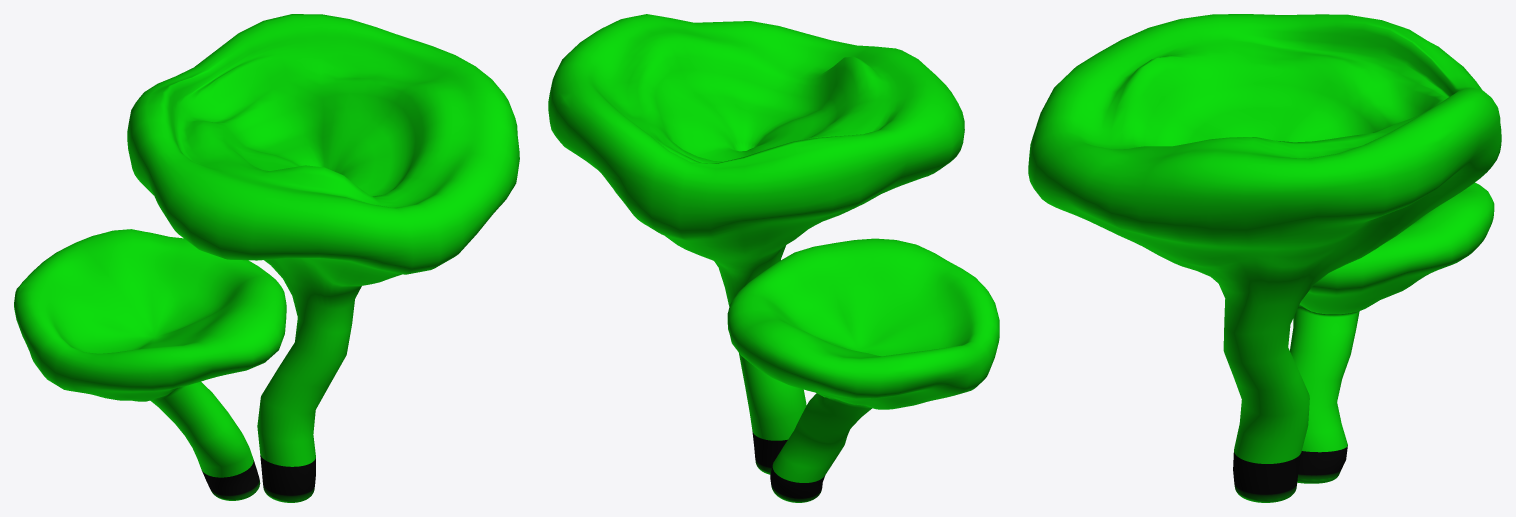
The model's file is Oyster_shroom.fbx.
3 renders of one model, left to right at view 1: azimuth 30°, elevation 25°; view 2: azimuth 150°, elevation 25°; view 3: azimuth 270°, elevation 25°, orthographic. The views are drawn at different scales.
Visible parts, largest first — view 1: polySurface8; view 2: polySurface8; view 3: polySurface8.
Part boxes in pixels (x1,y1,x2,y2): polySurface8: (14,14,519,502); polySurface8: (548,14,999,502); polySurface8: (1028,14,1501,502).
Bounding box in the file's own units: 3 × 2.71 × 2.58.
